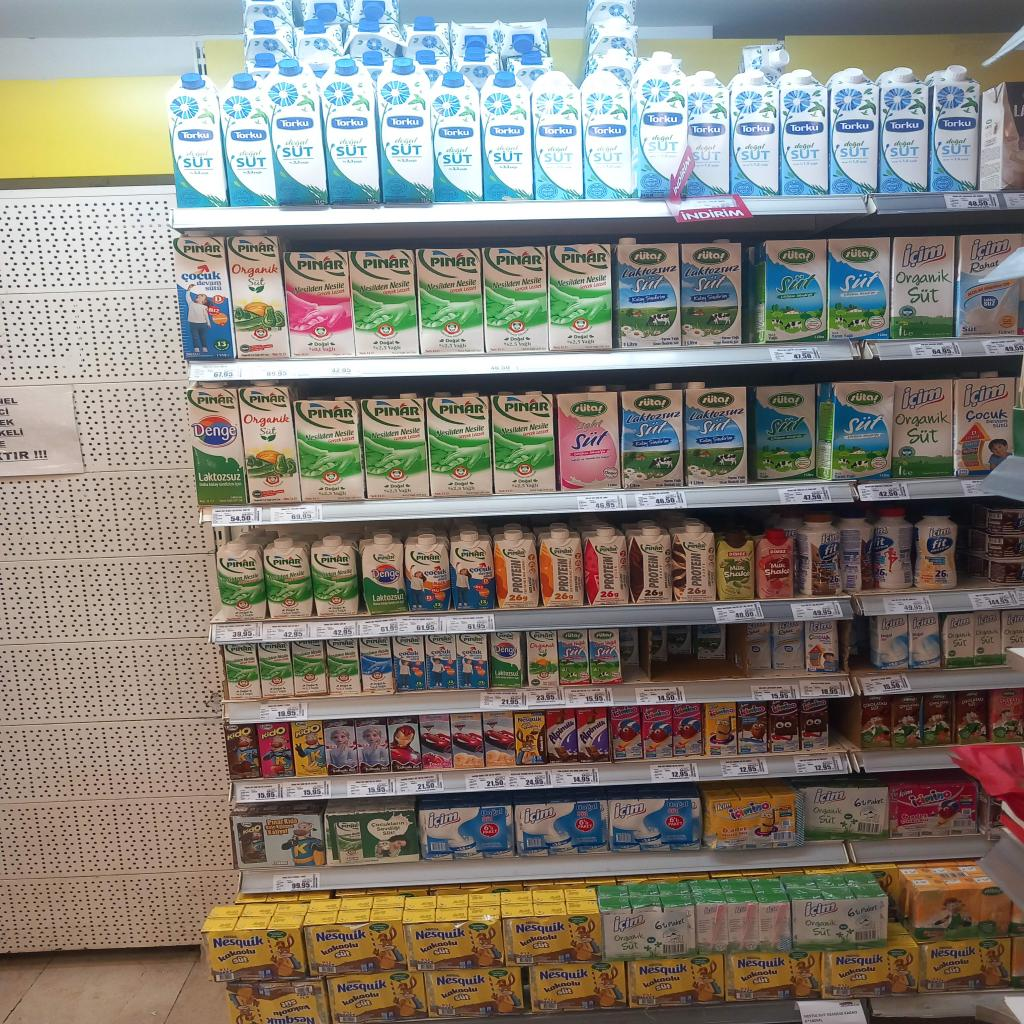price_tag: (796, 998, 870, 1024), (668, 200, 752, 218), (858, 672, 920, 694), (804, 676, 856, 702), (899, 342, 973, 360), (757, 347, 825, 366), (965, 588, 1021, 611), (630, 490, 694, 510), (264, 504, 327, 524), (747, 680, 802, 702), (944, 193, 1001, 214), (295, 362, 364, 379), (214, 622, 264, 645), (211, 506, 266, 526), (876, 595, 940, 612), (258, 702, 312, 721), (260, 623, 311, 643), (307, 620, 363, 638), (550, 766, 600, 786), (460, 358, 531, 372), (568, 688, 620, 707), (721, 757, 770, 777), (779, 486, 833, 504), (980, 336, 1024, 358), (482, 690, 530, 710), (707, 606, 765, 622), (282, 781, 332, 799), (443, 615, 499, 631), (186, 362, 238, 379), (571, 495, 628, 510), (795, 756, 844, 773), (858, 484, 910, 500), (638, 688, 689, 704), (236, 784, 281, 802), (360, 620, 406, 637), (790, 604, 842, 619), (272, 873, 320, 889), (240, 362, 294, 376), (649, 765, 703, 779), (463, 772, 510, 788), (506, 771, 550, 788), (523, 689, 568, 705), (350, 781, 395, 797), (394, 778, 444, 792), (403, 617, 438, 632)
product: (269, 61, 329, 209), (169, 78, 229, 212), (818, 380, 894, 482), (174, 236, 234, 363), (186, 380, 246, 502), (492, 388, 560, 494), (419, 246, 486, 352), (582, 72, 637, 201), (362, 392, 430, 496), (428, 387, 492, 496), (299, 392, 363, 501), (550, 246, 614, 354), (352, 247, 416, 355), (243, 380, 300, 501), (764, 238, 830, 342), (486, 242, 548, 352), (622, 380, 684, 490), (388, 56, 434, 204), (681, 240, 742, 350), (290, 250, 352, 358), (684, 378, 746, 486), (334, 62, 380, 205), (880, 66, 932, 192), (751, 381, 817, 480), (621, 238, 679, 350), (953, 372, 1015, 476), (556, 386, 618, 490), (232, 230, 282, 358), (894, 376, 954, 481), (640, 57, 684, 200), (489, 69, 535, 201), (435, 74, 483, 200), (896, 235, 952, 341), (228, 76, 274, 205), (830, 238, 890, 336), (735, 68, 780, 197), (782, 67, 827, 196), (961, 237, 1024, 328), (832, 68, 878, 192), (512, 799, 610, 856), (610, 790, 700, 852), (203, 929, 307, 981), (710, 794, 803, 849), (538, 76, 579, 199), (934, 68, 975, 190), (421, 806, 515, 858), (914, 884, 1008, 936), (234, 815, 326, 868), (692, 76, 732, 196), (794, 895, 888, 946), (426, 968, 525, 1016), (304, 925, 406, 971), (700, 900, 792, 951), (629, 958, 725, 1006), (326, 811, 418, 861), (530, 963, 626, 1010), (730, 950, 822, 999), (892, 785, 978, 837), (922, 938, 1009, 989), (603, 906, 694, 954), (984, 82, 1024, 190), (406, 922, 504, 966), (330, 975, 427, 1019), (310, 532, 362, 614), (512, 913, 600, 961), (829, 948, 917, 996), (810, 784, 888, 838), (538, 522, 585, 610), (228, 984, 328, 1024), (363, 530, 411, 613), (871, 504, 916, 592), (495, 524, 539, 610), (215, 544, 265, 618), (799, 512, 843, 596), (451, 524, 493, 611), (408, 526, 451, 610), (629, 524, 673, 602), (678, 518, 718, 602), (586, 523, 628, 603), (759, 522, 800, 602), (918, 506, 956, 590), (270, 534, 308, 617), (841, 511, 874, 595), (718, 528, 754, 602), (221, 722, 262, 778), (392, 632, 428, 694), (355, 719, 395, 773), (291, 720, 329, 776), (258, 722, 296, 776), (427, 634, 463, 690), (322, 720, 359, 774), (943, 613, 976, 672), (591, 628, 624, 687), (491, 629, 525, 686), (220, 645, 258, 695), (732, 624, 770, 674), (911, 612, 944, 669), (260, 643, 294, 698), (358, 636, 390, 694), (876, 614, 909, 670), (528, 631, 561, 687), (419, 716, 452, 772), (328, 638, 361, 693), (808, 618, 841, 671), (453, 714, 485, 768), (974, 611, 1005, 666), (560, 629, 591, 683), (956, 692, 988, 744), (461, 634, 491, 689), (772, 620, 803, 673), (670, 702, 700, 756), (295, 642, 326, 694), (977, 502, 1024, 536), (995, 688, 1024, 743), (706, 703, 737, 754), (389, 719, 420, 769), (580, 708, 608, 761), (548, 710, 577, 761), (612, 708, 640, 760), (770, 702, 799, 752), (484, 712, 512, 763), (923, 694, 952, 743), (515, 713, 542, 765), (864, 698, 892, 747), (740, 703, 767, 753), (976, 558, 1024, 586), (893, 696, 918, 748), (976, 534, 1024, 561), (645, 707, 669, 757), (802, 700, 826, 748), (1005, 612, 1024, 661)
